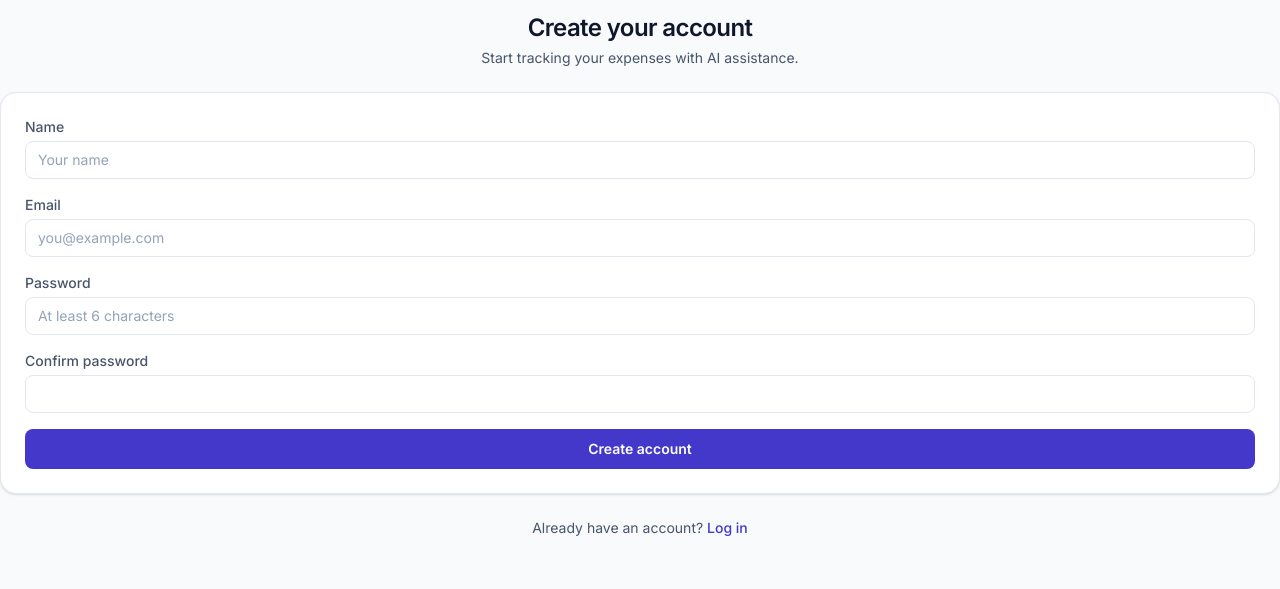
Test: RegisterPage › shows the error message returned by the sign-up action
Type "Jordan Rivera" into the field labelled "Name". click: (640, 160)
box: [25,141,1255,179]
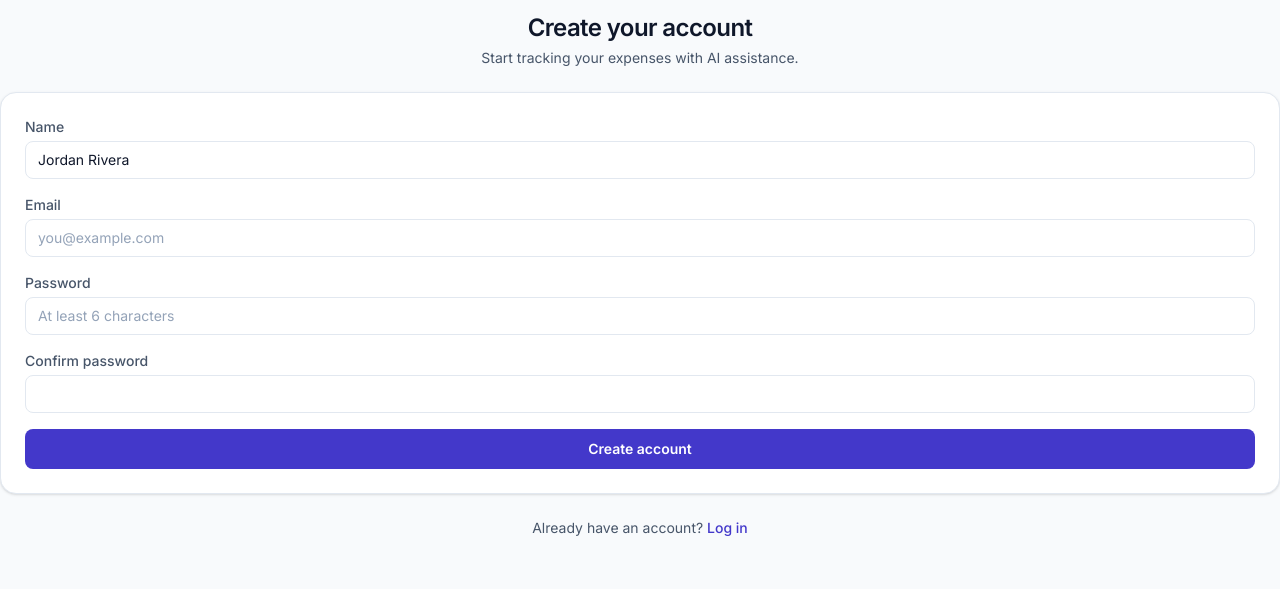
Type "taken@example.com" into the field labelled "Email". click: (640, 238)
box: [25,219,1255,257]
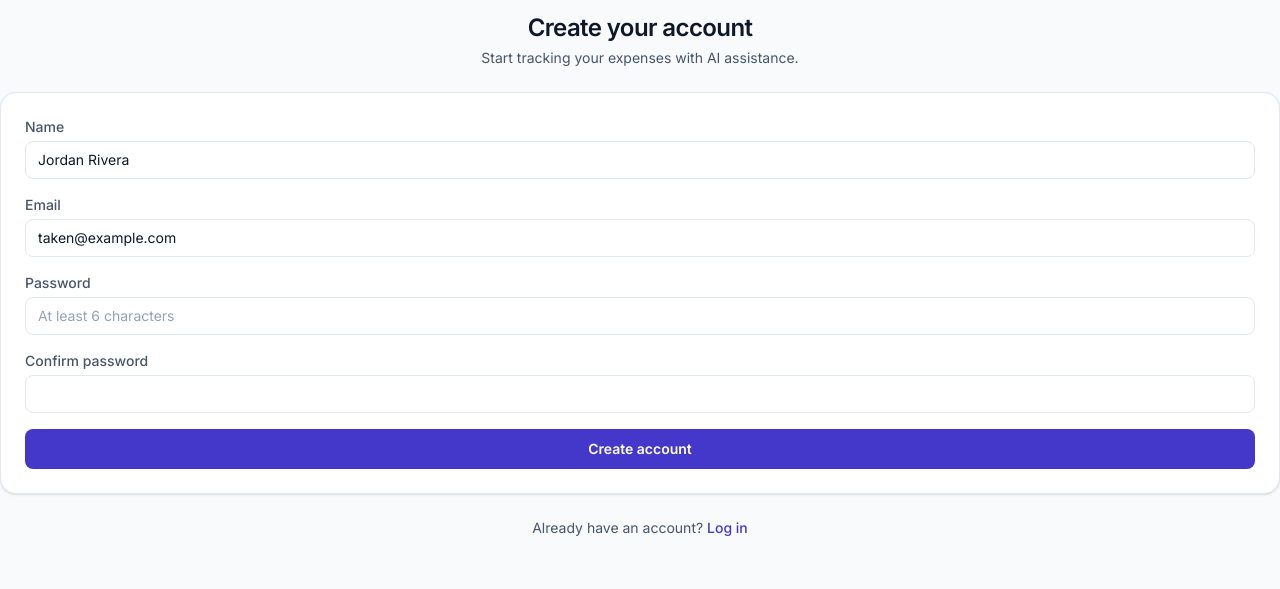
Type "password123" into the password field labelled "Password". click: (640, 316)
box: [25,297,1255,335]
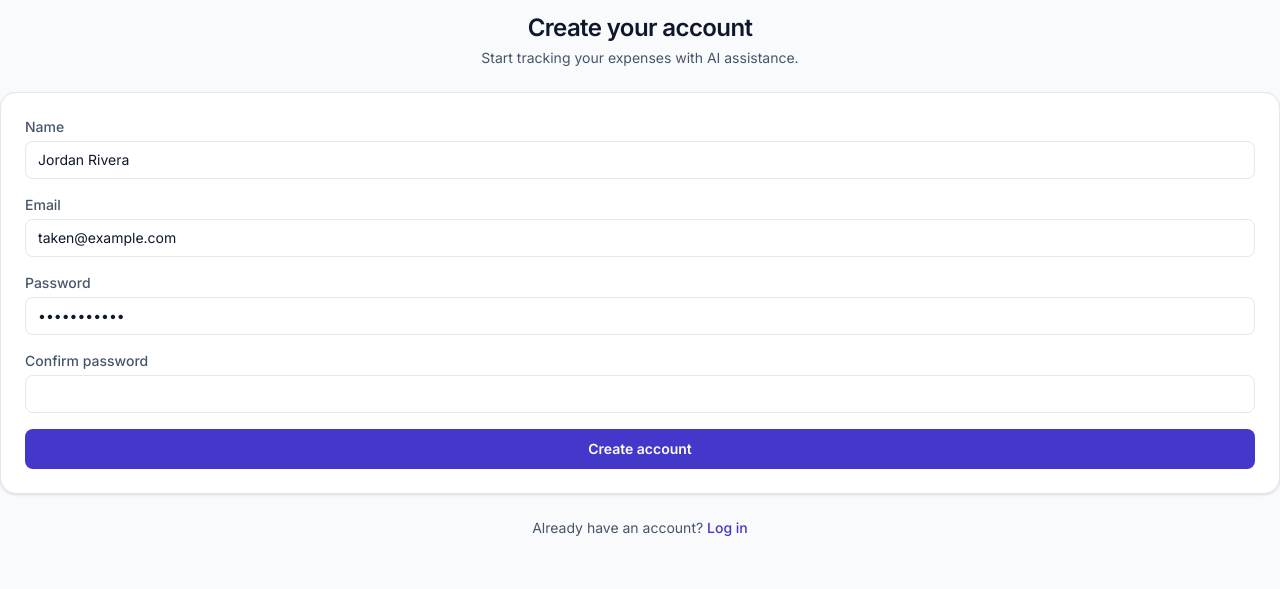
Type "password123" into the password field labelled "Confirm password". click: (640, 394)
box: [25,375,1255,413]
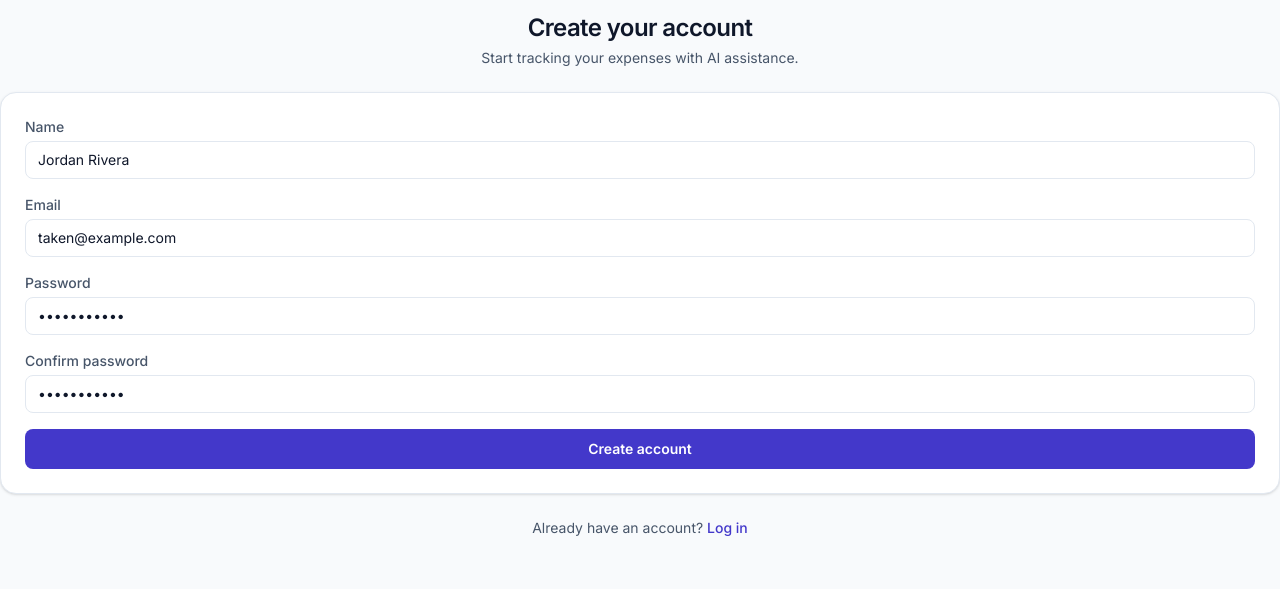
Submit the form "Name Email Password Confirm password Create account"
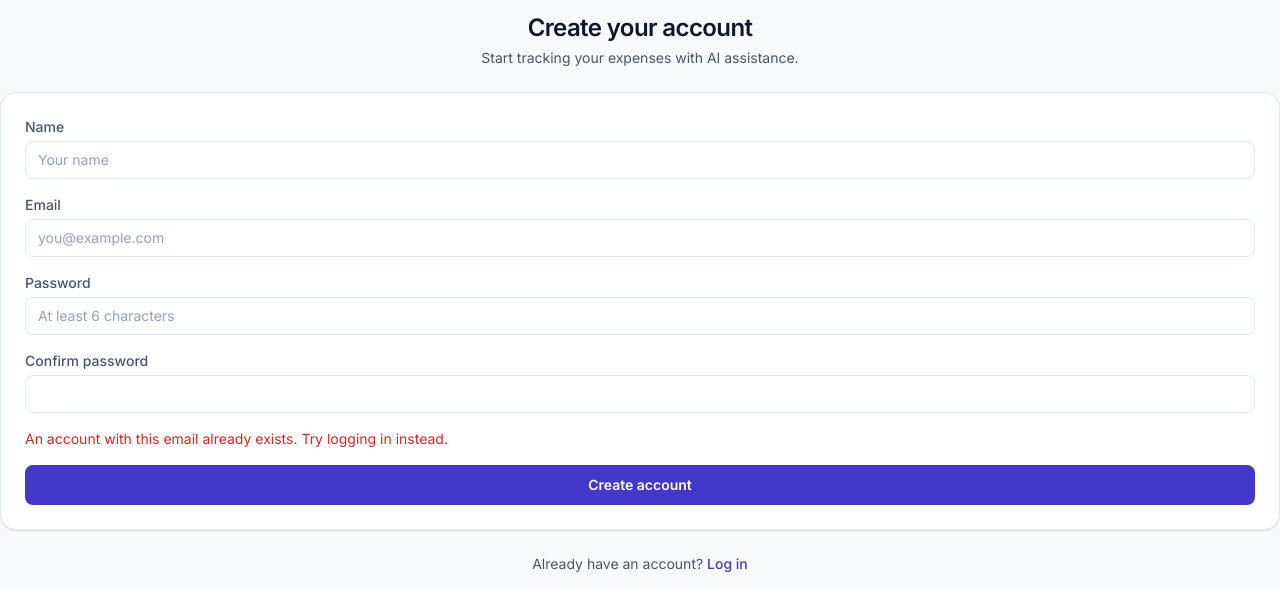
Expected: the text "already exists" is shown, [25,430,448,447]
